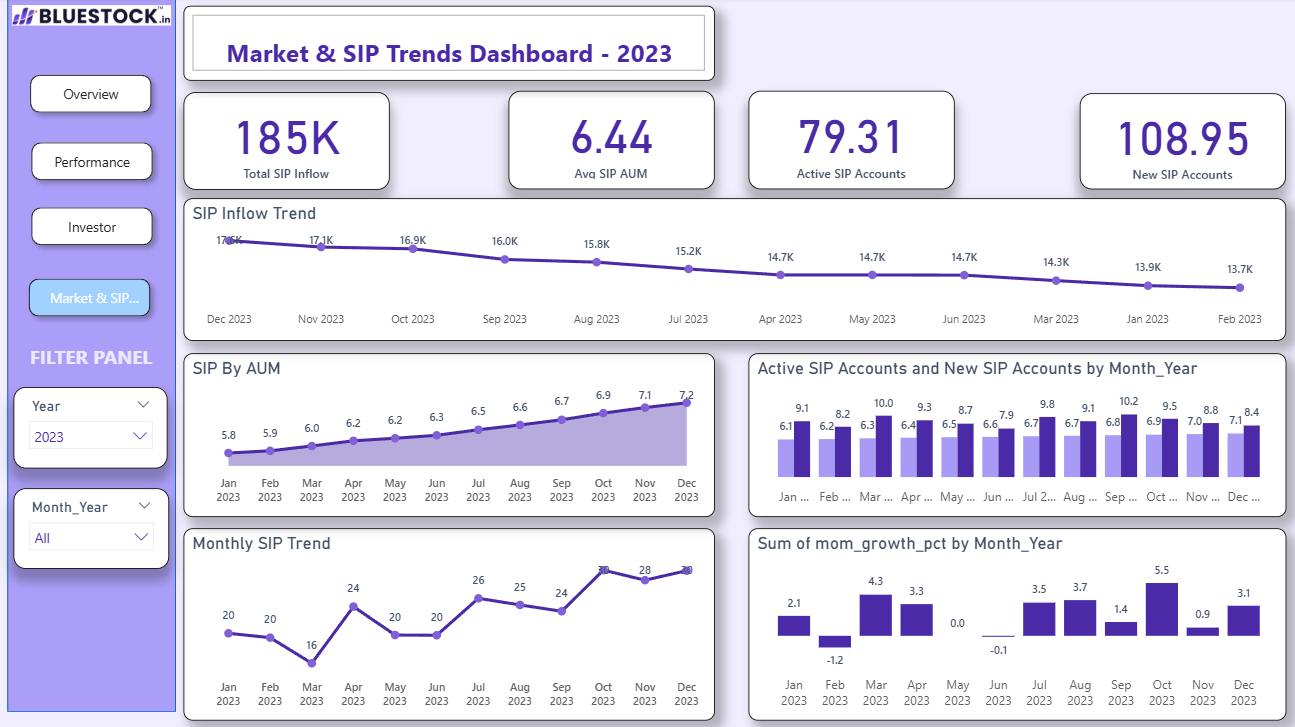

What the dashboard file says about the page in this screenshot:
{"tool":"powerbi","page":{"name":"Market & SIP Trends","canvas":[1280,720],"ordinal":3},"visuals":[{"type":"shape","box":[11,0,165.6,701.8],"z":0,"group":"g1"},{"type":"card","title":"Total AUM","fields":{"Values":["Table.Total SIP Inflow"]},"box":[184.1,93.3,202.5,95.7],"z":0},{"type":"card","title":"Total AUM","fields":{"Values":["Table.Avg SIP AUM"]},"box":[503.1,92,202.5,96.9],"z":1000},{"type":"card","title":"Total AUM","fields":{"Values":["Table.Active SIP Accounts"]},"box":[738.7,92,202.5,96.9],"z":2000},{"type":"card","title":"Total AUM","fields":{"Values":["Table.New SIP Accounts"]},"box":[1063.8,94.5,202.5,94.5],"z":3000},{"type":"lineChart","title":"Monthly SIP Trend","fields":{"Y":["Sum(public monthly_sip_features.yoy_growth_pct)"],"Category":["public monthly_sip_features.Month Year.Variation.Date Hierarchy.Year"]},"box":[184.1,521.5,521.5,189],"z":4000},{"type":"areaChart","title":"SIP By AUM","fields":{"Category":["public monthly_sip_features.Month_Year"],"Y":["Sum(public monthly_sip_features.sip_aum_lakh_crore)"]},"box":[184.1,349.7,521.5,160.7],"z":5000},{"type":"slicer","fields":{"Values":["public monthly_sip_features.Month_Year"]},"box":[16.6,482.1,152.4,79],"z":5000,"group":"g1"},{"type":"clusteredColumnChart","fields":{"Category":["public monthly_sip_features.Month_Year"],"Y":["Table.Active SIP Accounts","Table.New SIP Accounts"]},"box":[738.7,349.7,527.6,160.7],"z":6000},{"type":"columnChart","fields":{"Category":["public monthly_sip_features.Month_Year"],"Y":["Sum(public monthly_sip_features.mom_growth_pct)"]},"box":[738.7,521.5,527.6,189],"z":7000},{"type":"cardVisual","fields":{"Data":["Table.SIP Title"]},"box":[184.1,8.6,521.5,73.6],"z":8000},{"type":"lineChart","title":"SIP Inflow Trend","fields":{"Category":["DateTable.Month Year"],"Y":["Sum(public monthly_sip_features.sip_inflow_crore)"]},"box":[184.1,197.5,1082.2,139.9],"z":9000},{"type":"group","id":"g1","title":"Group 1","box":[11,0,165.6,701.8],"z":10000},{"type":"slicer","fields":{"Values":["DateTable.Year"]},"box":[16.6,382.8,151.3,80.2],"z":10000,"group":"g1"},{"type":"textbox","box":[18.4,335,149.7,47.9],"z":11000},{"type":"pageNavigator","box":[24.5,67.5,137.4,55.2],"z":12000},{"type":"image","box":[11,0,165.6,35.6],"z":13000,"group":"g1"},{"type":"pageNavigator","box":[25.8,133.7,137.4,55.2],"z":13000},{"type":"pageNavigator","box":[25.8,197.5,137.4,55.2],"z":14000},{"type":"pageNavigator","box":[23.3,267.5,137.4,55.2],"z":15000}]}

Visuals, with their boxes on the page's 1280x720 design canvas (x1, y1, x2, y2). These are canvas units, not pixel positions in the 1295x727 screenshot, which may show the page scaled, cropped or inside an application window:
shape: bbox=[11, 0, 177, 702]
"Total AUM" card: bbox=[184, 93, 387, 189]
"Total AUM" card: bbox=[503, 92, 706, 189]
"Total AUM" card: bbox=[739, 92, 941, 189]
"Total AUM" card: bbox=[1064, 94, 1266, 189]
"Monthly SIP Trend" lineChart: bbox=[184, 522, 706, 710]
"SIP By AUM" areaChart: bbox=[184, 350, 706, 510]
slicer - public monthly_sip_features.Month_Year: bbox=[17, 482, 169, 561]
clusteredColumnChart - public monthly_sip_features.Month_Year x Table.Active SIP Accounts: bbox=[739, 350, 1266, 510]
columnChart - public monthly_sip_features.Month_Year x Sum(public monthly_sip_features.mom_growth_pct): bbox=[739, 522, 1266, 710]
cardVisual - Table.SIP Title: bbox=[184, 9, 706, 82]
"SIP Inflow Trend" lineChart: bbox=[184, 198, 1266, 337]
"Group 1" group: bbox=[11, 0, 177, 702]
slicer - DateTable.Year: bbox=[17, 383, 168, 463]
textbox: bbox=[18, 335, 168, 383]
pageNavigator: bbox=[24, 68, 162, 123]
image: bbox=[11, 0, 177, 36]
pageNavigator: bbox=[26, 134, 163, 189]
pageNavigator: bbox=[26, 198, 163, 253]
pageNavigator: bbox=[23, 268, 161, 323]
